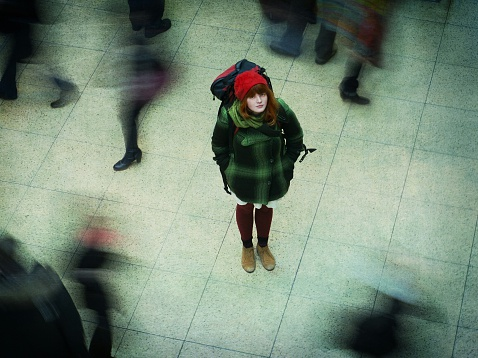em pe: (207, 66, 308, 276)
